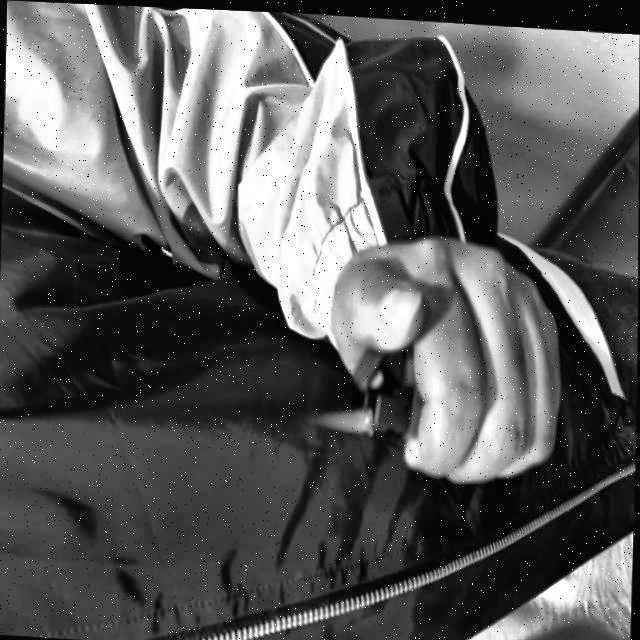Fire: (315, 401, 373, 430)
